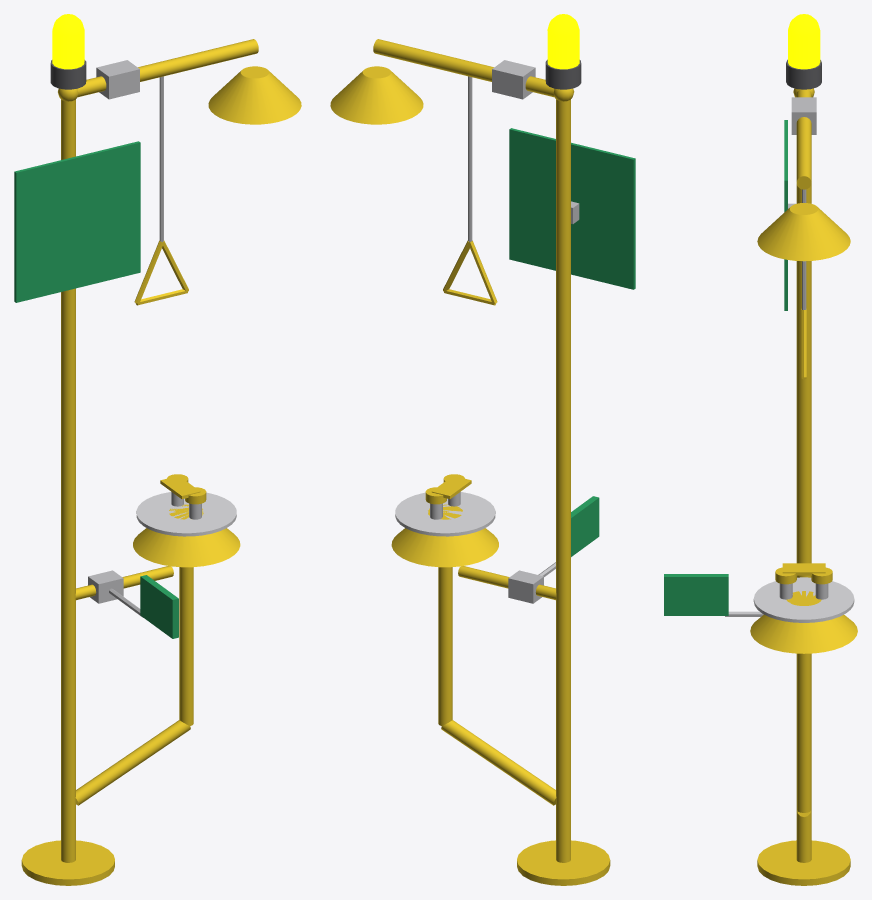
File: SM_EmergencyShower.fbx
The picture shows the model from 3 angles, left to right: view 1: azimuth 30°, elevation 25°; view 2: azimuth 150°, elevation 25°; view 3: azimuth 270°, elevation 25°; orthographic projection.
Parts seen in each view (by area): view 1: ES_Shower_Body, ES_Eyewash_PushFlag, ES_Shower_PullRod, ES_Eyewash_Caps; view 2: ES_Shower_Body, ES_Shower_PullRod, ES_Eyewash_PushFlag, ES_Eyewash_Caps; view 3: ES_Shower_Body, ES_Eyewash_PushFlag, ES_Eyewash_Caps, ES_Shower_PullRod.
Part boxes in pixels (bbox=[...]): ES_Shower_Body: bbox=[14, 14, 301, 885]; ES_Eyewash_PushFlag: bbox=[109, 575, 178, 638]; ES_Shower_PullRod: bbox=[134, 76, 188, 305]; ES_Eyewash_Caps: bbox=[160, 474, 206, 504]; ES_Shower_Body: bbox=[330, 14, 635, 885]; ES_Shower_PullRod: bbox=[443, 76, 497, 305]; ES_Eyewash_PushFlag: bbox=[538, 496, 599, 576]; ES_Eyewash_Caps: bbox=[425, 474, 471, 504]; ES_Shower_Body: bbox=[750, 14, 857, 885]; ES_Eyewash_PushFlag: bbox=[664, 574, 763, 616]; ES_Eyewash_Caps: bbox=[775, 563, 832, 584]; ES_Shower_PullRod: bbox=[801, 189, 806, 379].
Size of the model in its own units: 93 by 262 by 54.
